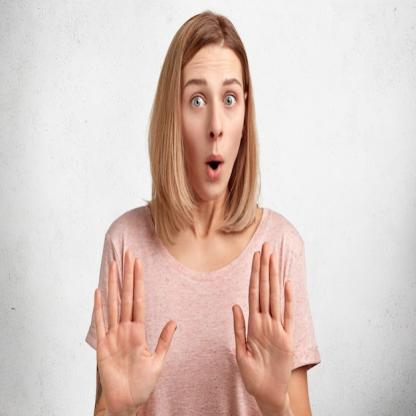stop: (90, 246, 180, 414), (230, 238, 298, 416)
